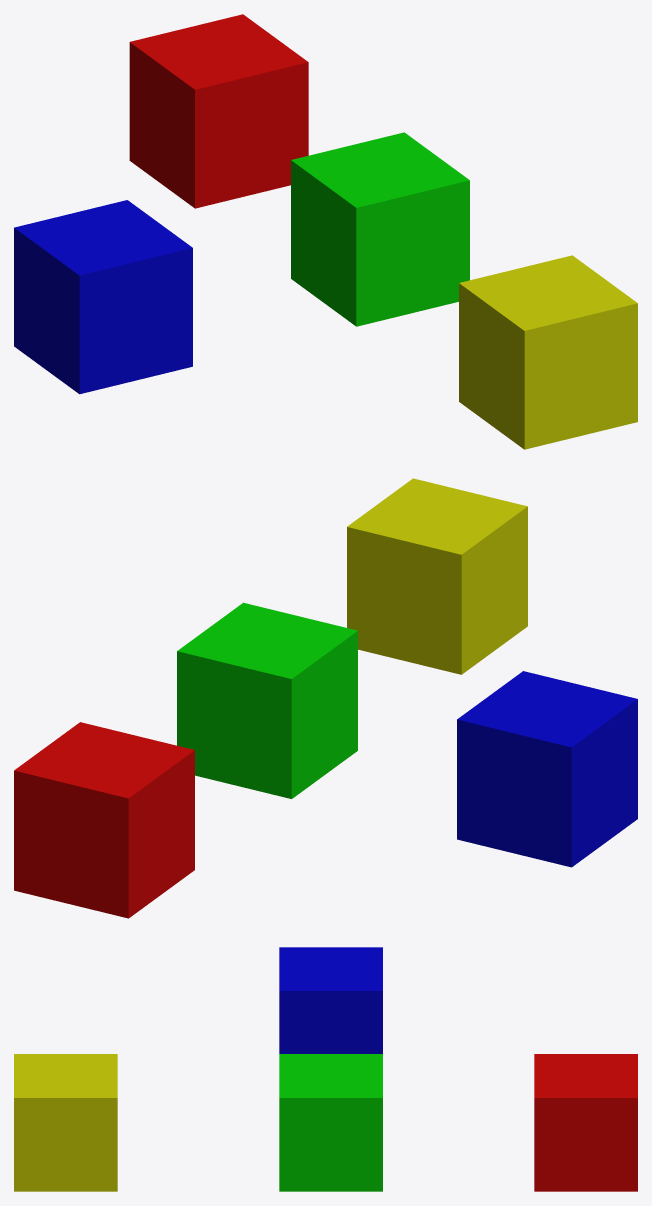
File: Movement.obj
The picture shows the model from 3 angles, top to bottom: view 1: azimuth 30°, elevation 25°; view 2: azimuth 150°, elevation 25°; view 3: azimuth 270°, elevation 25°; orthographic projection. The views are drawn at different scales.
Visible parts, largest first — view 1: Plus_Cube, Dotted_Cube, Green_Cube, Hatched_Cube; view 2: Hatched_Cube, Dotted_Cube, Plus_Cube, Green_Cube; view 3: Green_Cube, Plus_Cube, Hatched_Cube, Dotted_Cube.
Part boxes in pixels (x1,y1,x2,y2): Plus_Cube: (459, 255, 637, 449); Dotted_Cube: (14, 200, 192, 394); Green_Cube: (291, 132, 469, 326); Hatched_Cube: (129, 14, 308, 208); Hatched_Cube: (14, 722, 194, 918); Dotted_Cube: (457, 671, 637, 867); Plus_Cube: (347, 478, 527, 674); Green_Cube: (177, 602, 357, 798); Green_Cube: (279, 1054, 382, 1191); Plus_Cube: (14, 1054, 117, 1191); Hatched_Cube: (534, 1054, 637, 1191); Dotted_Cube: (279, 947, 382, 1053).
Size of what is drawn, in the model's own units: 6.88 by 2 by 12.05.
